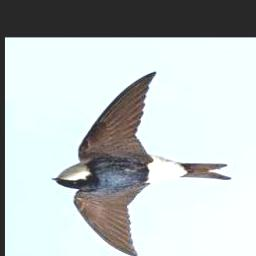Swallow: (51, 73, 232, 256)
